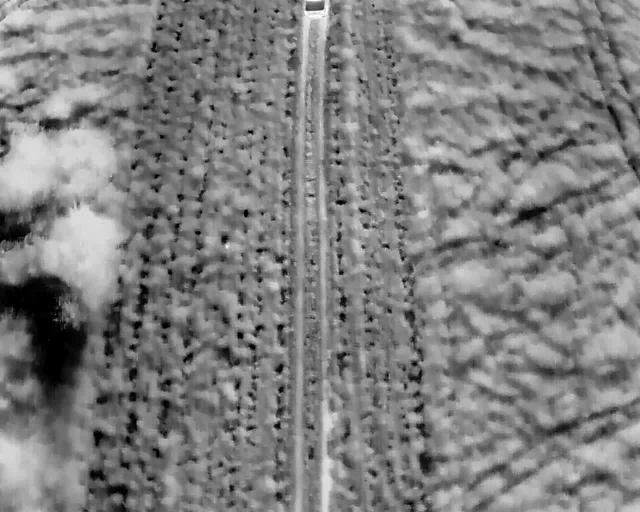car: (303, 0, 328, 17)
